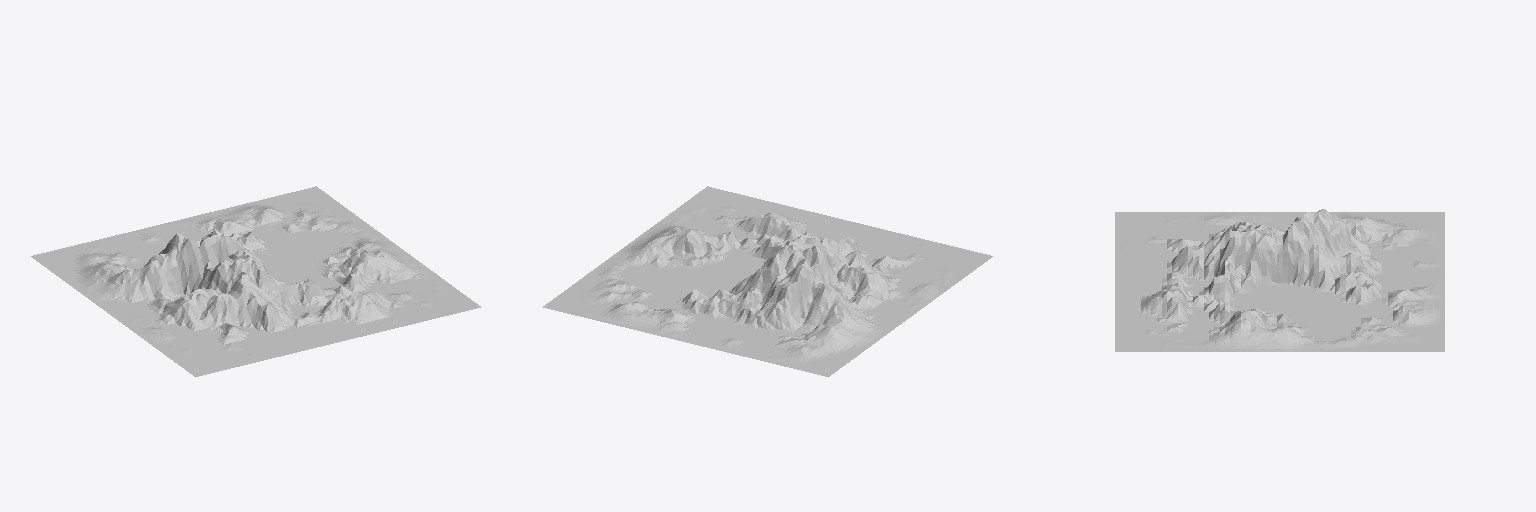
File: terrainModel.obj
3 views of the same model, side by side, from view 1: azimuth 30°, elevation 25°; view 2: azimuth 150°, elevation 25°; view 3: azimuth 270°, elevation 25° (orthographic).
Parts seen in each view (by area): view 1: Landscape.001; view 2: Landscape.001; view 3: Landscape.001.
Boxes of the visible parts, x1,y1,x2,y2 form: Landscape.001: [31, 186, 480, 376]; Landscape.001: [543, 186, 992, 376]; Landscape.001: [1115, 209, 1444, 351].
Bounding box in the file's own units: 3.41 × 0.5877 × 3.41.